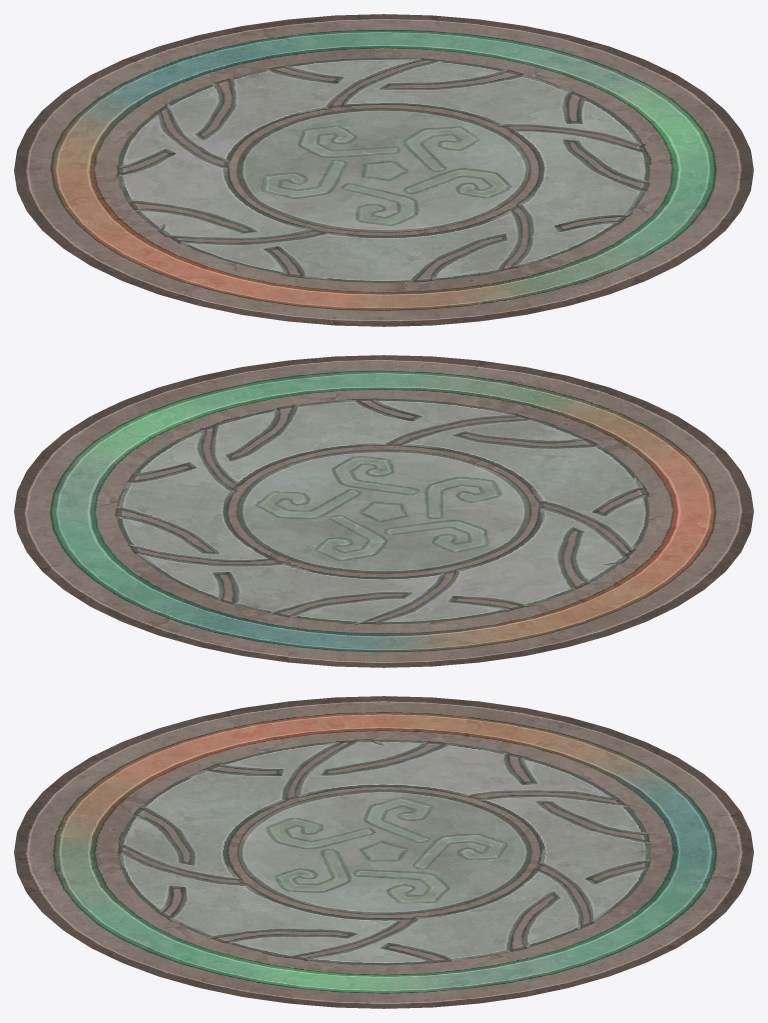
Rendered from dayuanpan_01.FBX.
The picture shows the model from 3 angles, top to bottom: view 1: azimuth 30°, elevation 25°; view 2: azimuth 150°, elevation 25°; view 3: azimuth 270°, elevation 25°; orthographic projection.
Parts seen in each view (by area): view 1: dayuanpan_01; view 2: dayuanpan_01; view 3: dayuanpan_01.
Boxes of the visible parts, x1,y1,x2,y2 form: dayuanpan_01: [14, 14, 753, 326]; dayuanpan_01: [14, 355, 753, 667]; dayuanpan_01: [14, 696, 753, 1008].
Size of the model in its own units: 1427 by 8.74e-14 by 1427.
